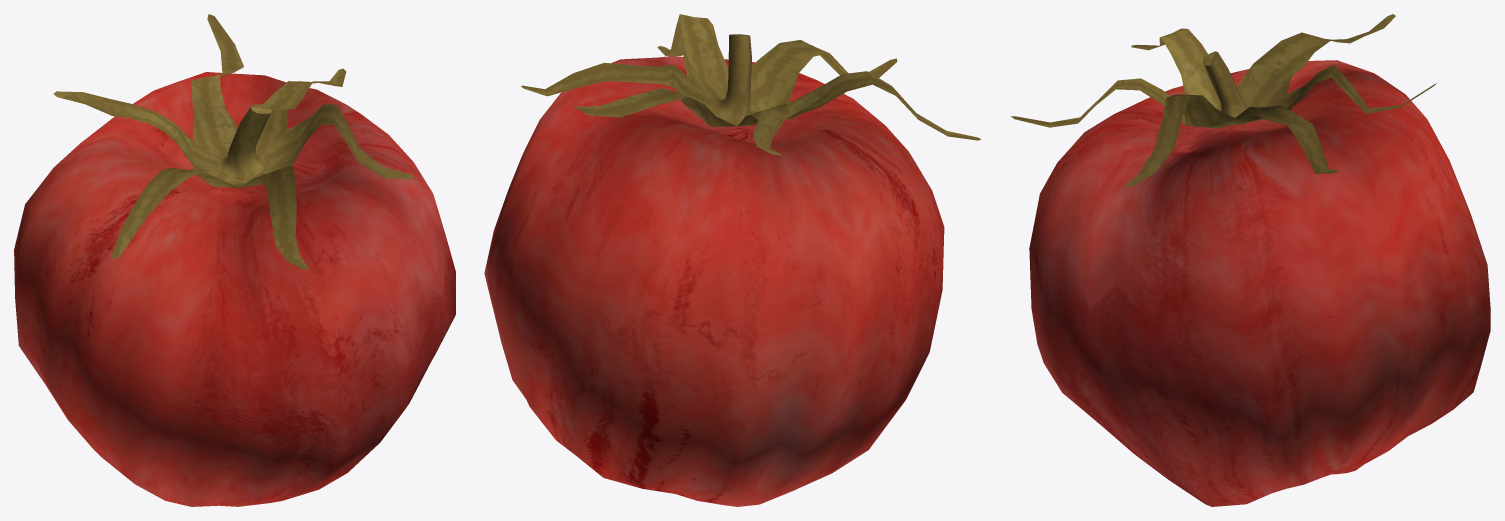
File: tomato1.glb
The picture shows the model from 3 angles, left to right: view 1: azimuth 30°, elevation 25°; view 2: azimuth 150°, elevation 25°; view 3: azimuth 270°, elevation 25°; orthographic projection. The views are drawn at different scales.
Visible parts, largest first — view 1: Cherry_tomato2; view 2: Cherry_tomato2; view 3: Cherry_tomato2.
Part boxes in pixels (bbox=[...]): Cherry_tomato2: bbox=[14, 14, 455, 506]; Cherry_tomato2: bbox=[484, 14, 981, 506]; Cherry_tomato2: bbox=[1011, 14, 1490, 506].
Size of the model in its own units: 0.0303 by 0.0324 by 0.0339.
1 material, 1 textured.
